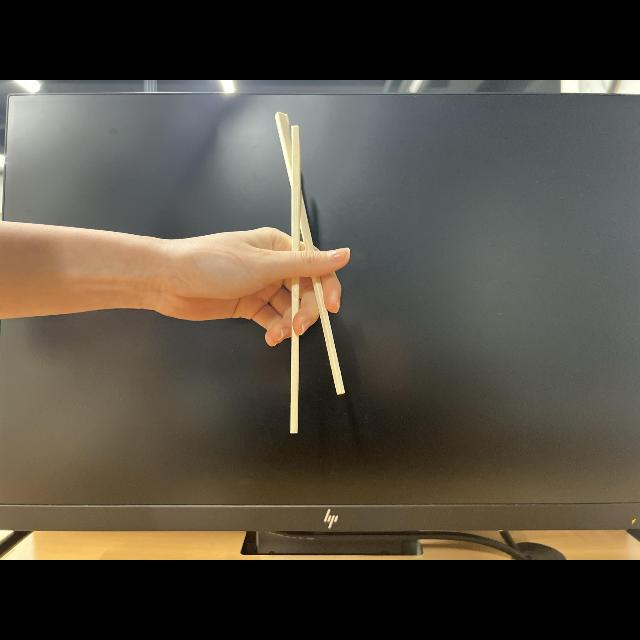stick: (198, 110, 350, 434)
